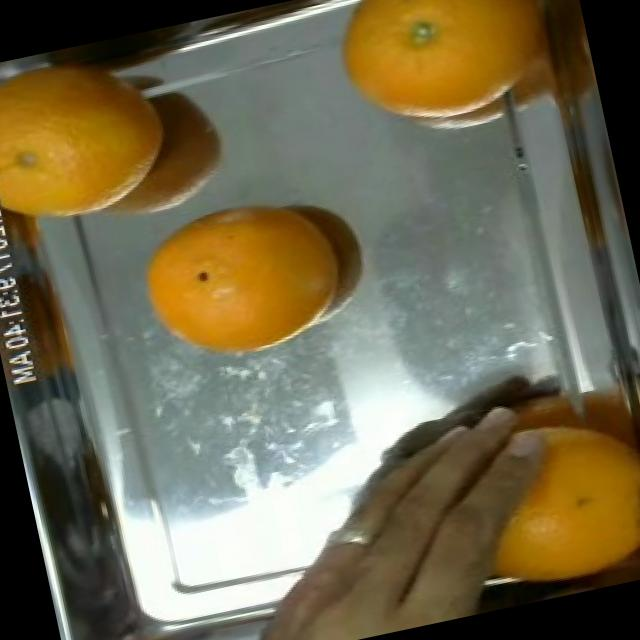Fruit: (118, 171, 354, 374), (0, 27, 194, 238)
